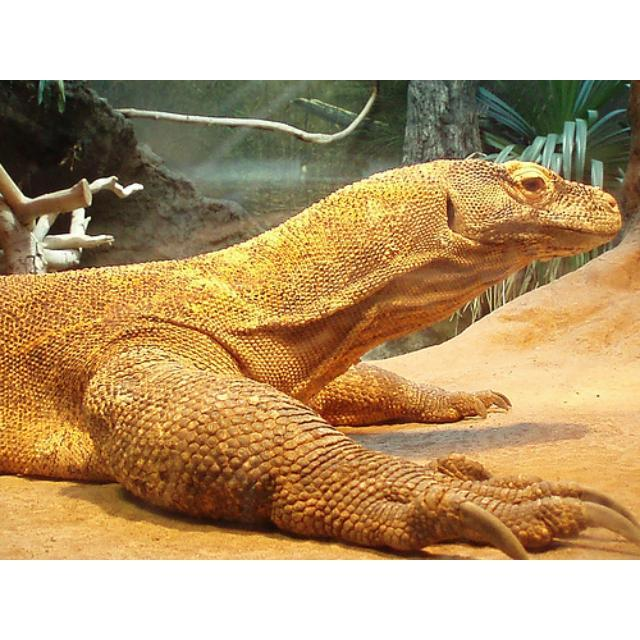KomodoDragon: (1, 155, 638, 558)
